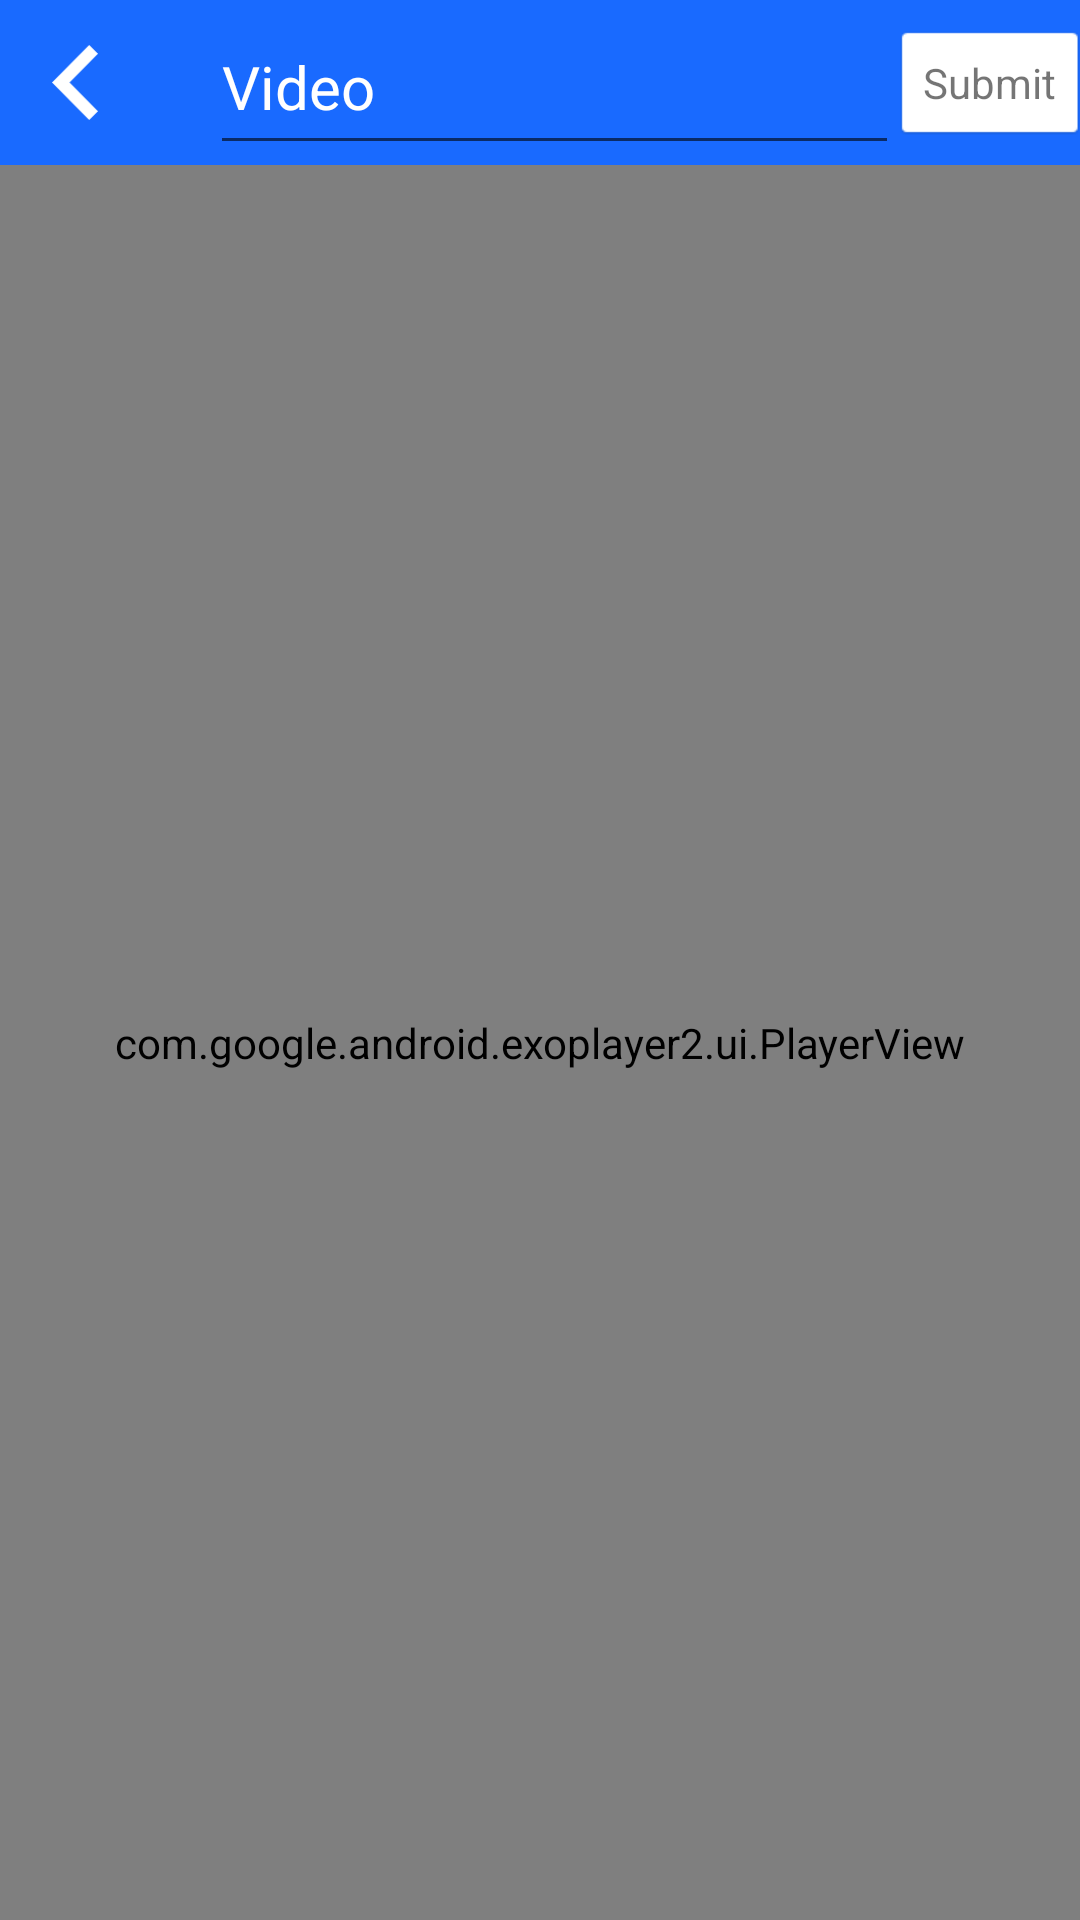

Where to tap for icons on this 1080×1920 app screen, as (x,y):
back arror: (75,82)
